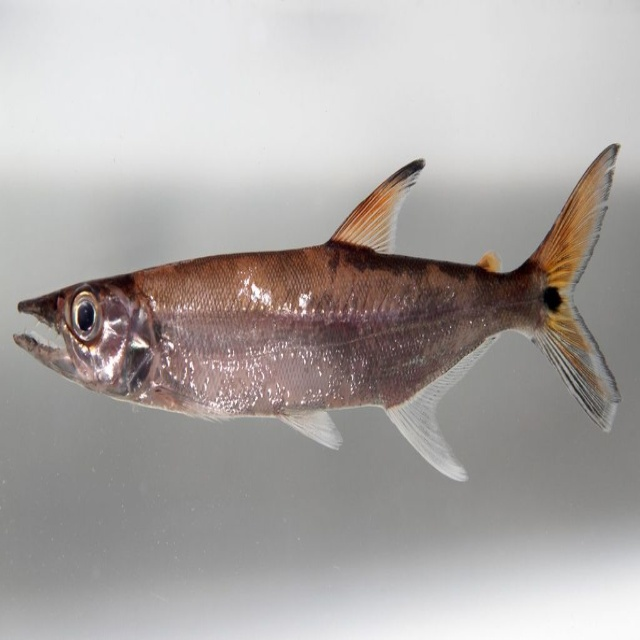Fish: (26, 136, 625, 472)
